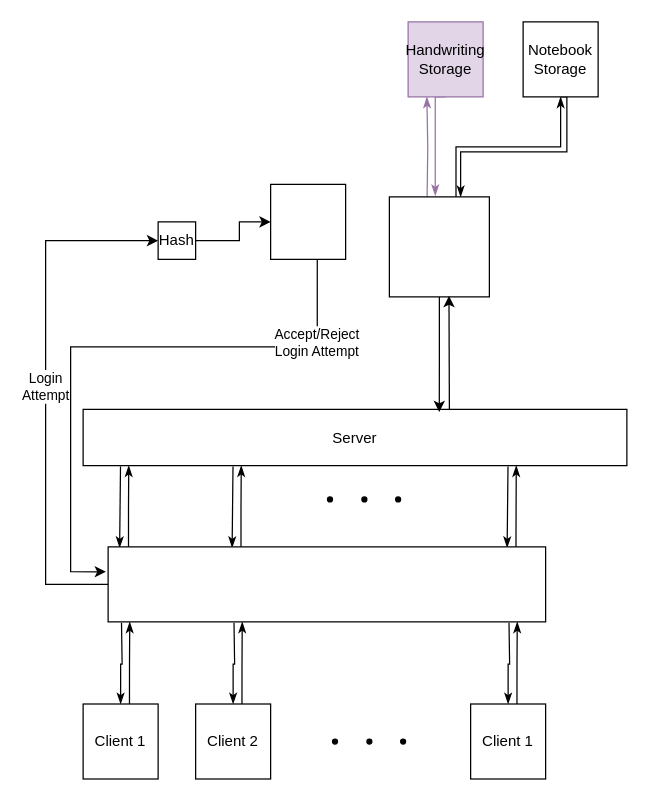
This 649x801 diagram has some shape labels left out. The shapes that lost their labels are listed below. From the top down, each one's centre as x and y in pixels, then its label:
At point 307,221: "Passwords And Usernames".
At point 438,246: "User Data Managment".
At point 326,584: "Encryption and decryption".
